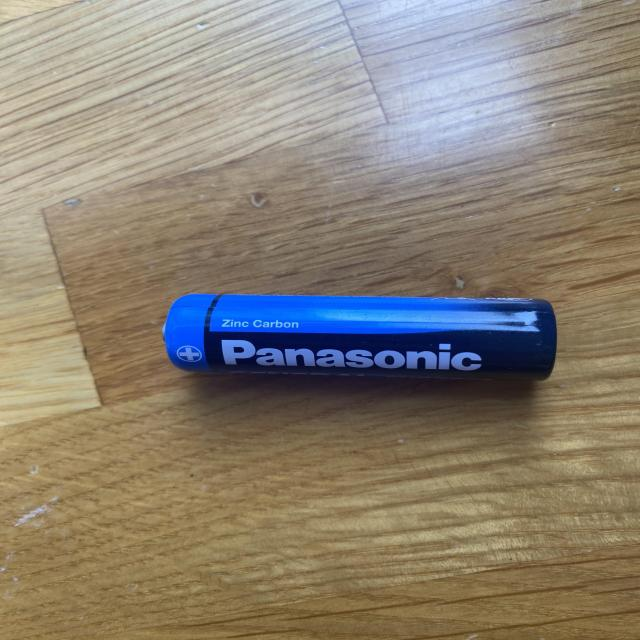AA: (158, 290, 562, 386)
